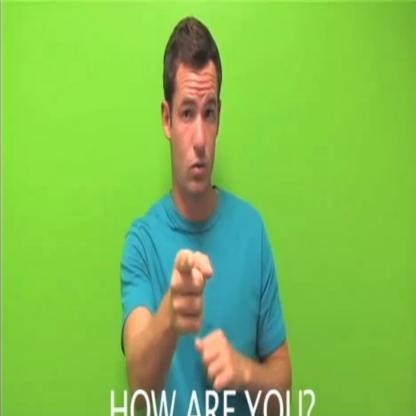HowAreYou: (164, 240, 259, 394)
